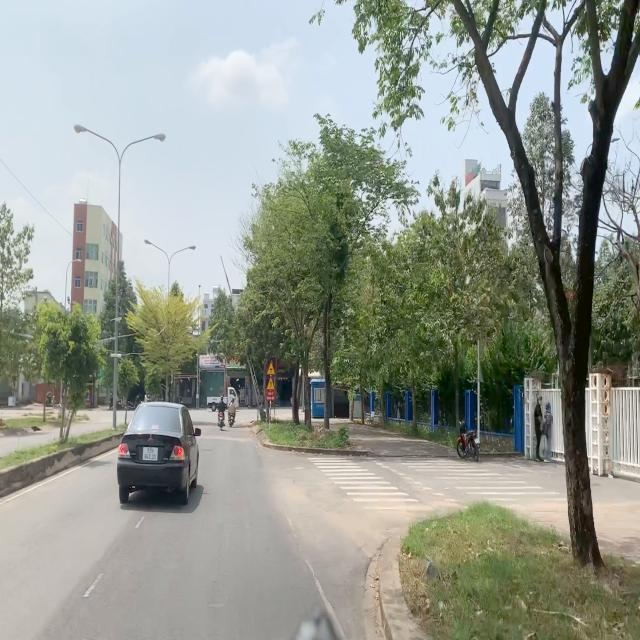Duong giao nhau: (266, 361, 276, 376)
Nguoi di bo cat ngang: (266, 377, 275, 390)
